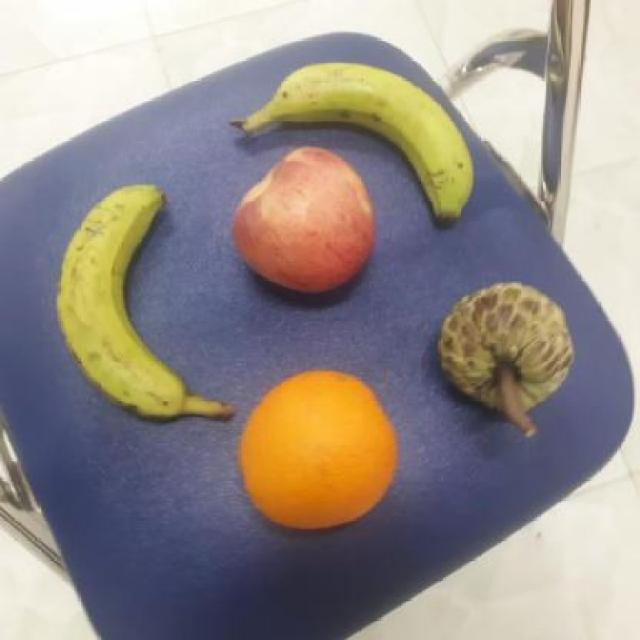apple: (228, 146, 377, 306)
banana: (234, 58, 481, 228), (51, 173, 202, 419)
oren: (235, 366, 410, 536)
sugar apple: (429, 282, 578, 427)
